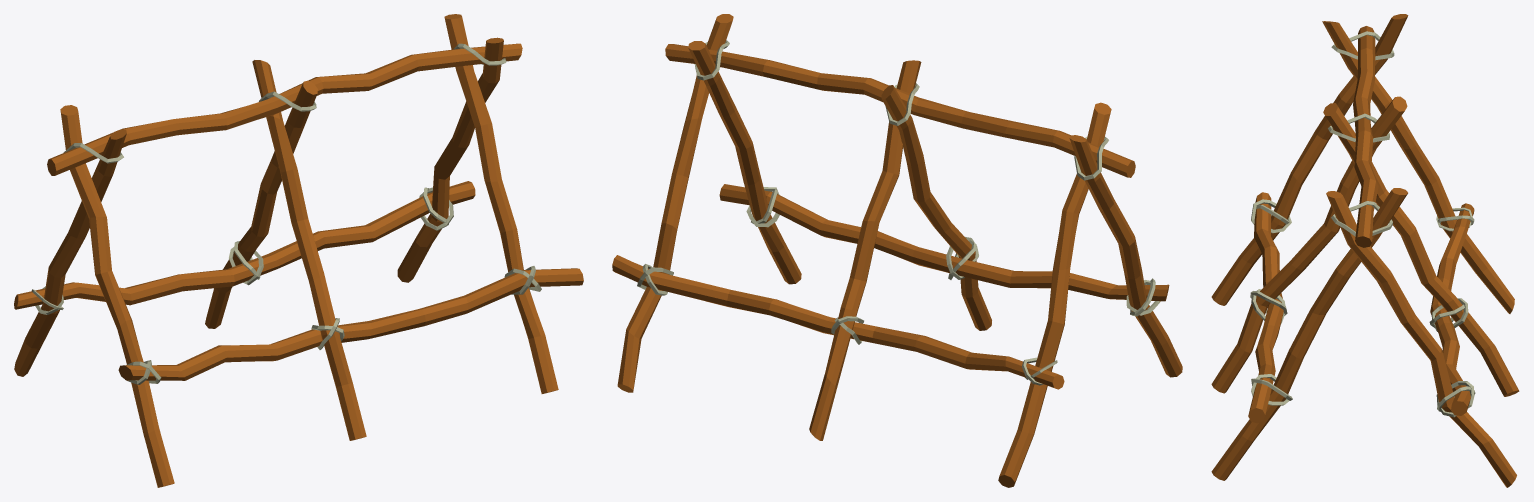
The model's file is SM_WeaponRack.fbx.
The picture shows the model from 3 angles, left to right: view 1: azimuth 30°, elevation 25°; view 2: azimuth 150°, elevation 25°; view 3: azimuth 270°, elevation 25°; orthographic projection. The views are drawn at different scales.
Visible parts, largest first — view 1: Cylinder.019; view 2: Cylinder.019; view 3: Cylinder.019.
Part boxes in pixels (box(x1,y1,x2,y2)): Cylinder.019: box(14, 14, 583, 487); Cylinder.019: box(612, 14, 1182, 487); Cylinder.019: box(1211, 14, 1519, 487).
Size of the model in its own units: 636 by 388 by 413.
